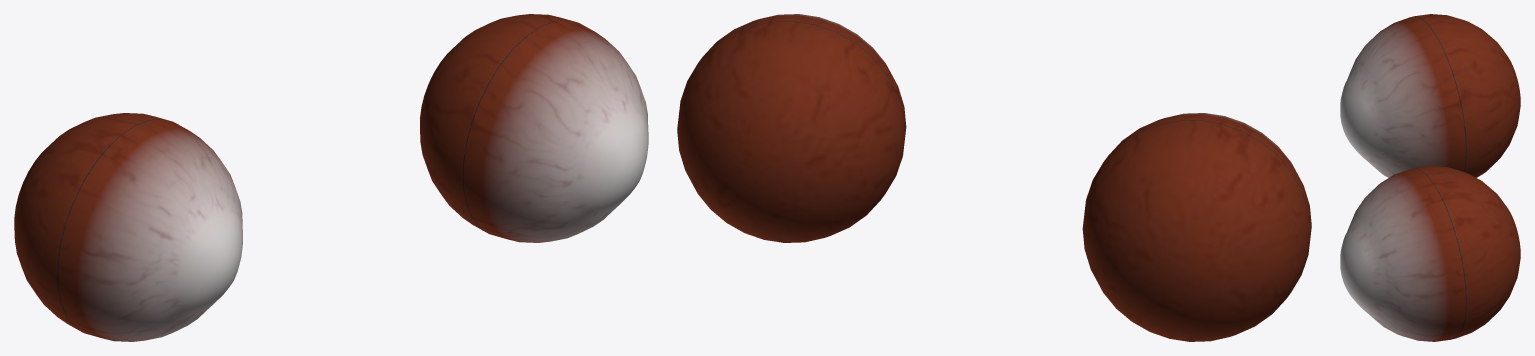
Rendered from eyes.glb.
The picture shows the model from 3 angles, left to right: view 1: azimuth 30°, elevation 25°; view 2: azimuth 150°, elevation 25°; view 3: azimuth 270°, elevation 25°; orthographic projection. The views are drawn at different scales.
Parts seen in each view (by area): view 1: EyeR, EyeL; view 2: EyeL, EyeR; view 3: EyeL, EyeR.
Part boxes in pixels (x1=…): EyeR: x1=14, y1=113, x2=242, y2=341; EyeL: x1=420, y1=14, x2=648, y2=242; EyeL: x1=677, y1=14, x2=906, y2=242; EyeR: x1=1082, y1=113, x2=1311, y2=341; EyeL: x1=1340, y1=166, x2=1520, y2=341; EyeR: x1=1340, y1=14, x2=1520, y2=177.
Bounding box in the file's own units: 8.2 × 2.69 × 2.76.
Materials: 2 (2 with a texture image).
